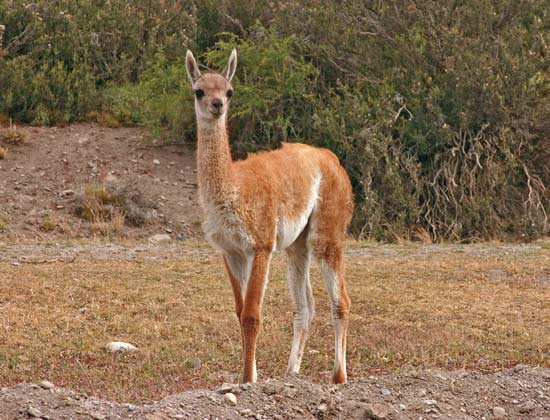eye: (190, 87, 209, 101), (227, 87, 237, 105)
mouth: (208, 103, 228, 120)
